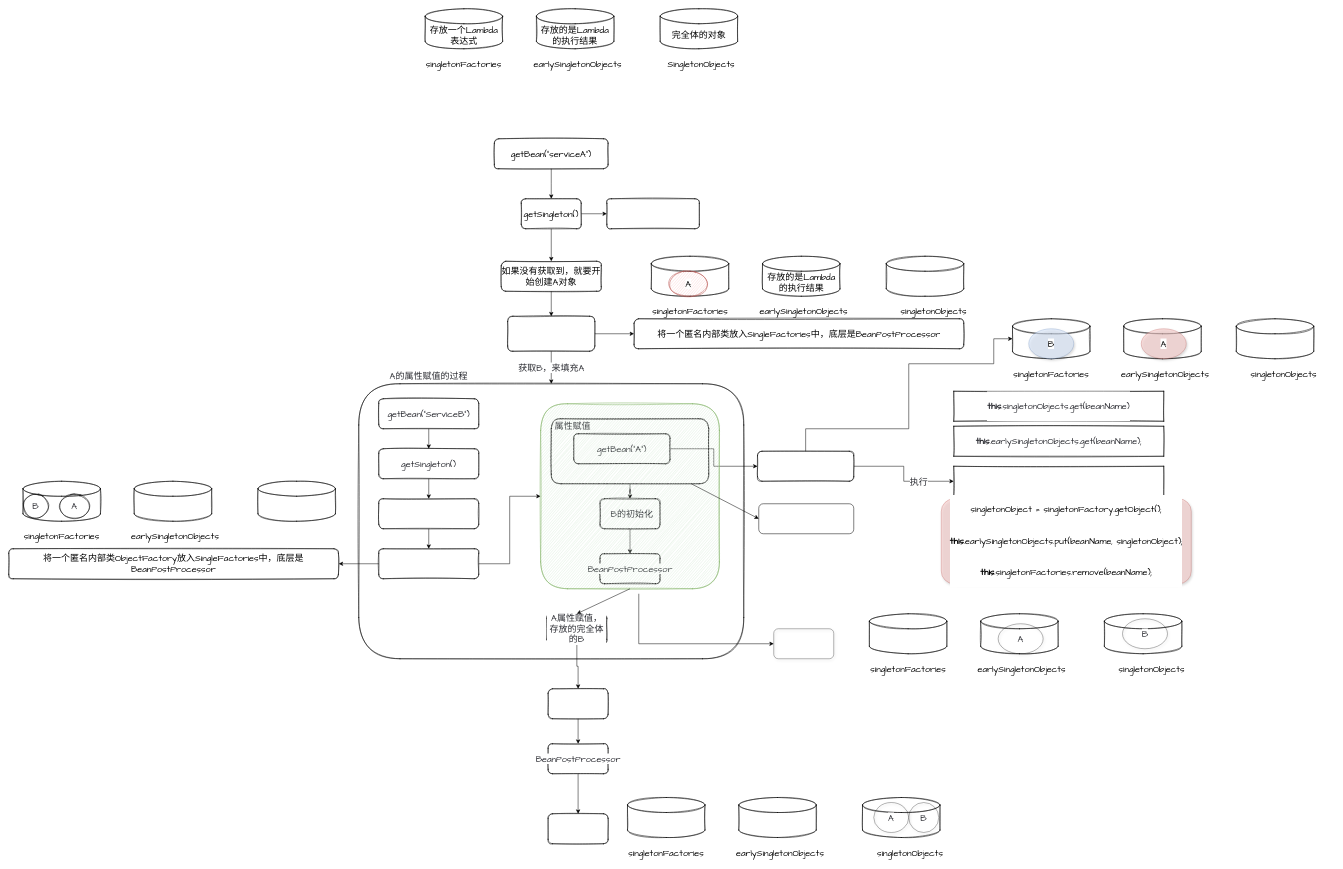
Some shapes in this 1343 by 869 pixel diagram are drawn without their labels. The centre of each missing label's shape, as x and y in pixels:
"A成为完全体" belongs at (578,828).
"B中存放的是A的代理" belongs at (806,518).
"B成为完全体" belongs at (804,644).
"doCreateBean" belongs at (428,513).
"this .singletonFactories.get(beanName) != null" belongs at (1058,481).
"初始化" belongs at (578,703).
"实例化A(B = null)，此时A就是一个空壳子" belongs at (551,333).
"实例化B(A = null)" belongs at (428,563).
"将A换一个池子" belongs at (805,466).
"尝试从缓存中获取" belongs at (652,213).
